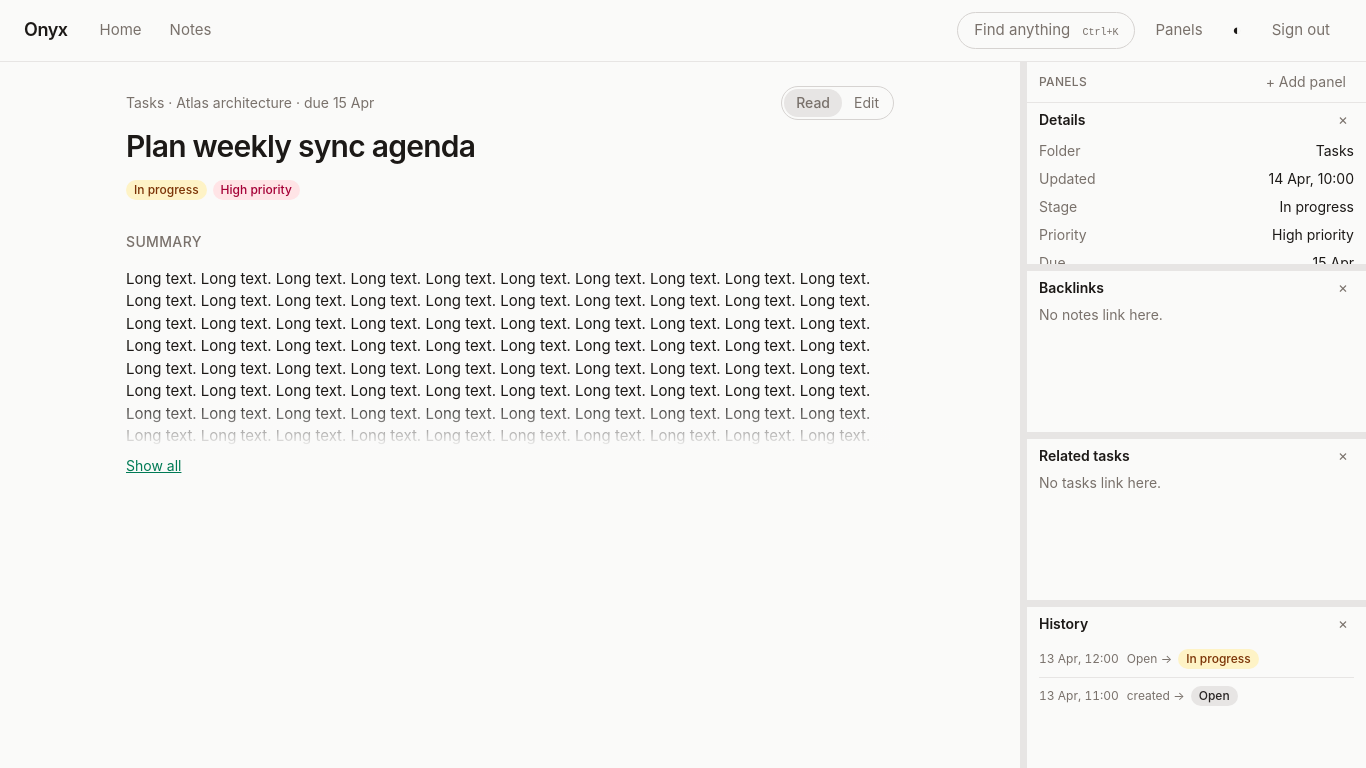
Scenario: focus view › folds a long task description to a short summary
Step 1. Click the button "Show all" → (154, 466), box [126,456,182,476]
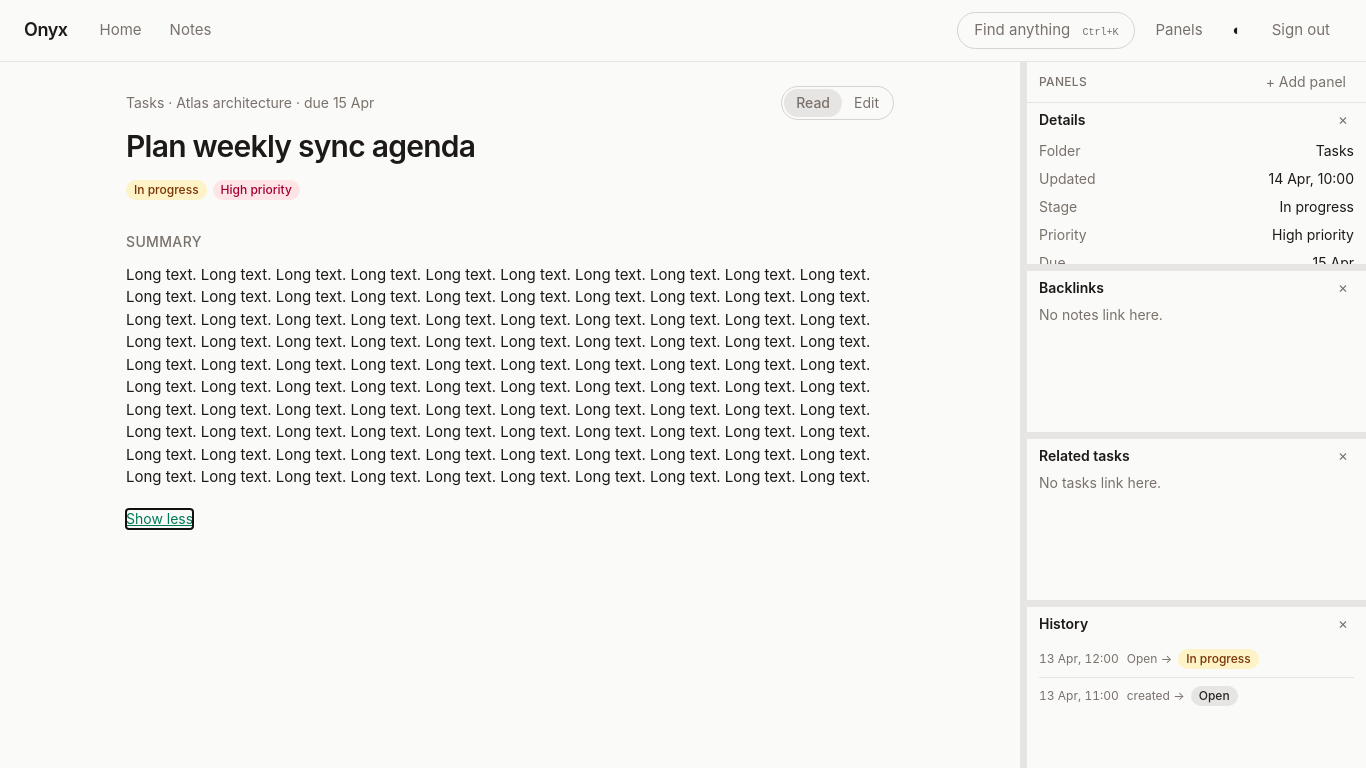
Check: the button "Show less" is shown, box [126,508,193,528]
